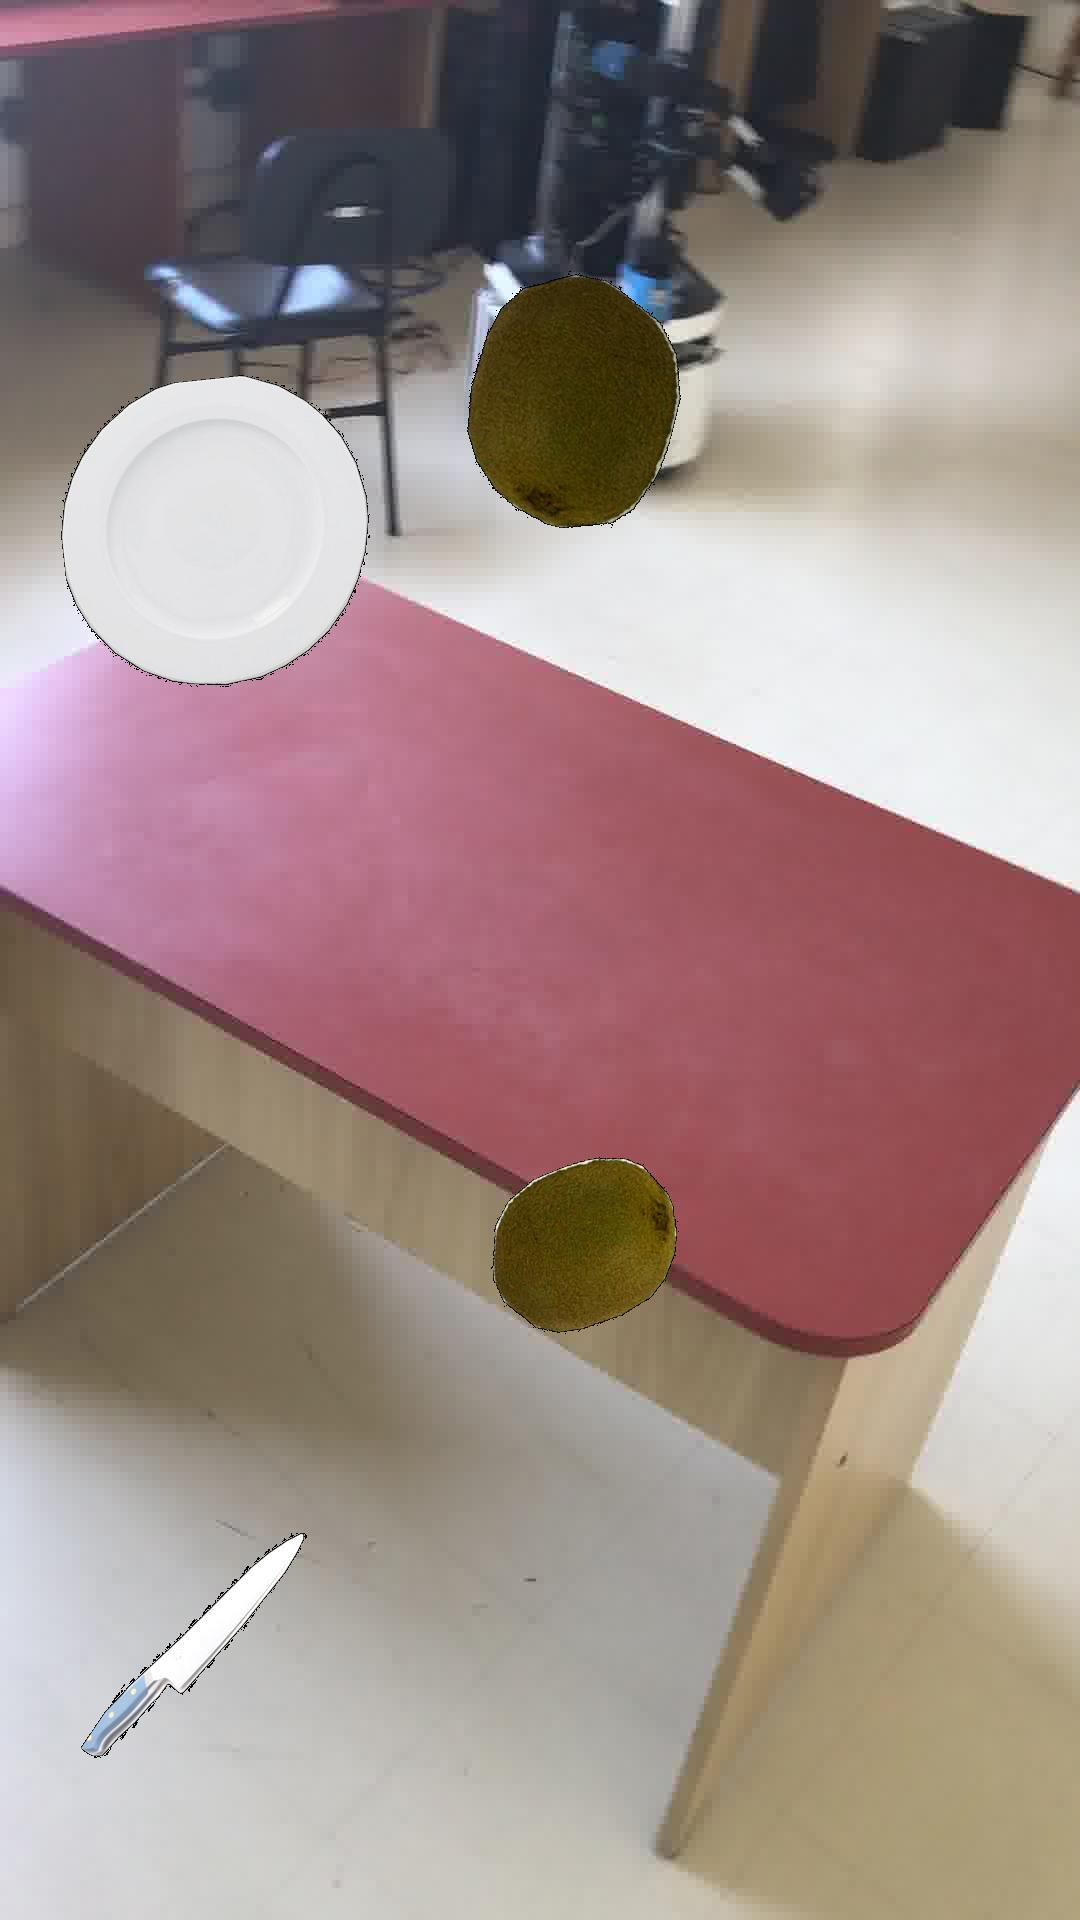kiwi: (465, 273, 679, 526), (489, 1156, 675, 1332)
knife: (79, 1531, 306, 1756)
plate: (59, 373, 368, 683)
